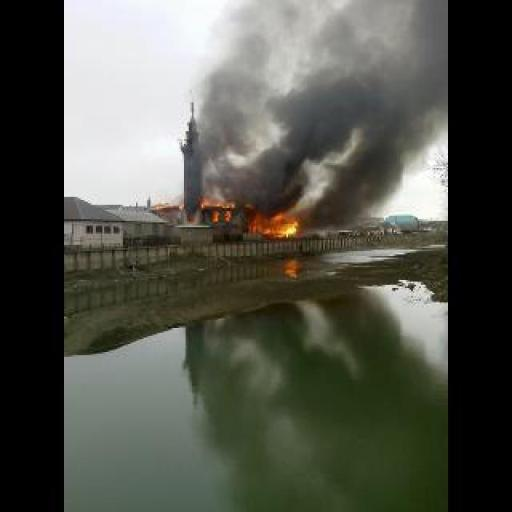smoke: (188, 51, 406, 227), (146, 182, 238, 216), (251, 208, 306, 250)
